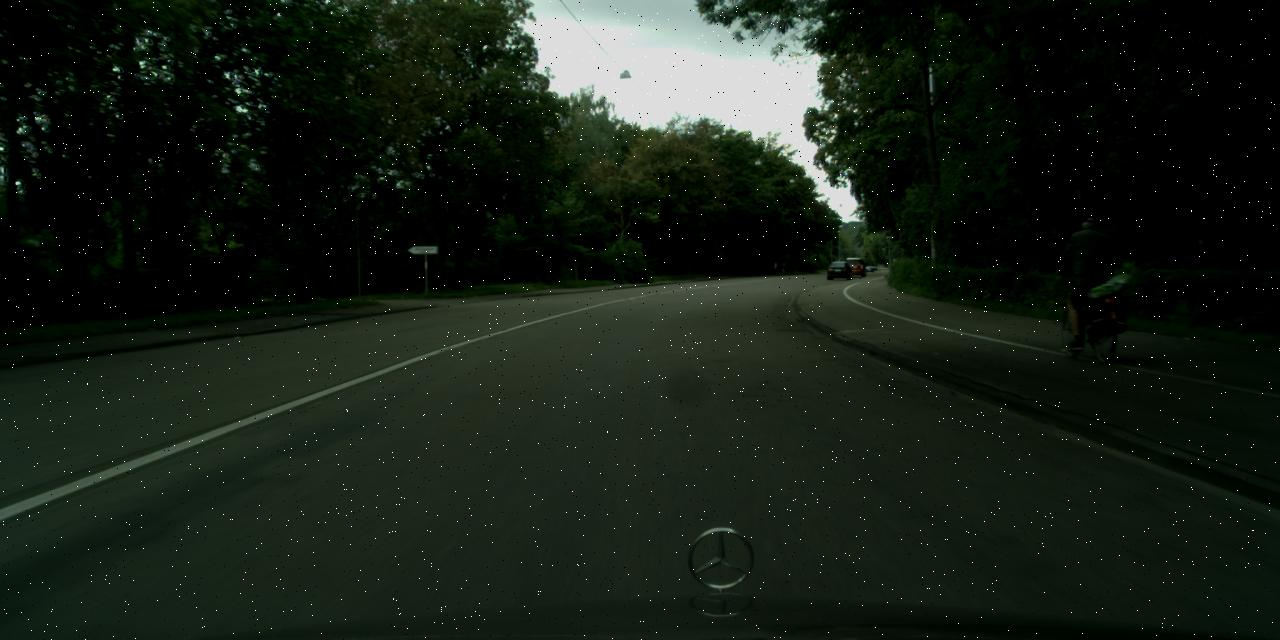ped: (1063, 217, 1113, 339)
